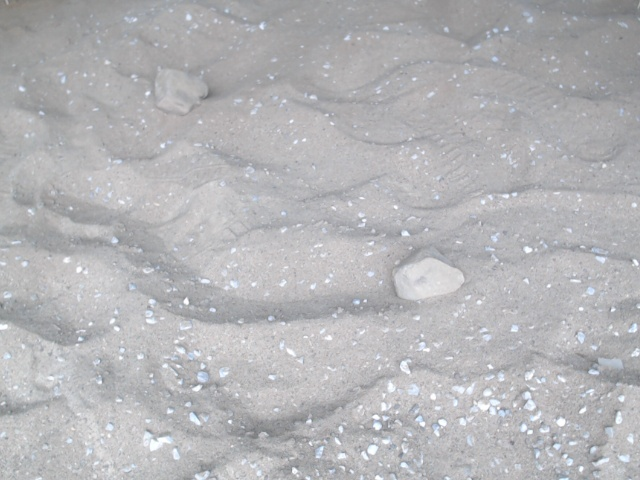rock: (386, 241, 470, 307), (147, 62, 214, 121)
